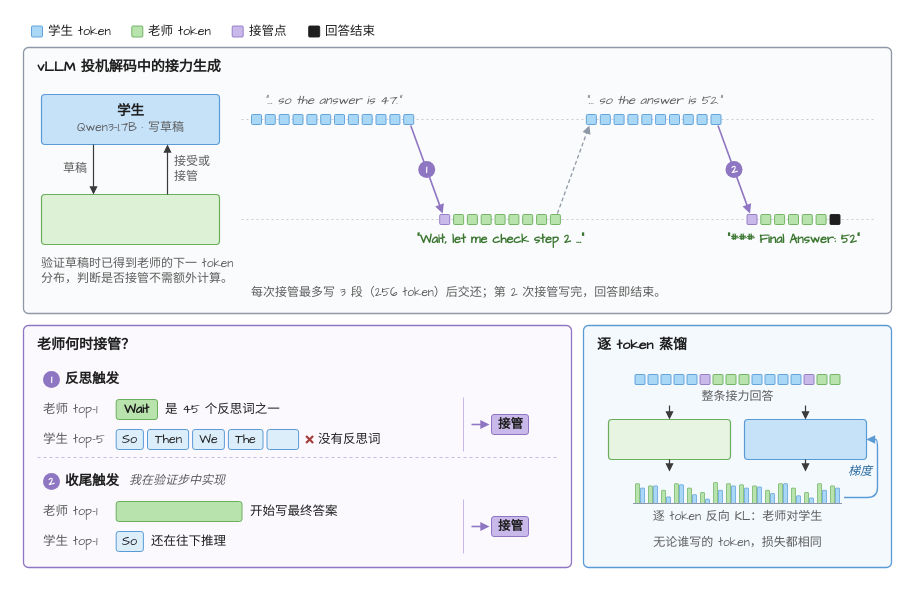
Image size: 914x590. Some labels were removed from this diagram. The box of each missing label's shape, as (x1, y1, x2, y2) in pixels:
### Final Answer: (115, 500, 242, 522)
Let: (266, 428, 299, 450)
学生 正在训练: (743, 418, 867, 460)
老师 Qwen3-4B · 验证: (40, 193, 220, 245)
老师打分器 单独一张卡: (607, 418, 731, 460)
